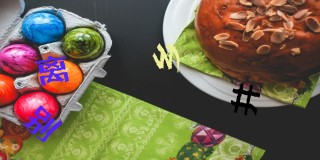乡: (151, 42, 180, 73)
井: (230, 82, 259, 118)
别: (22, 105, 63, 142)
离: (36, 54, 69, 85)
